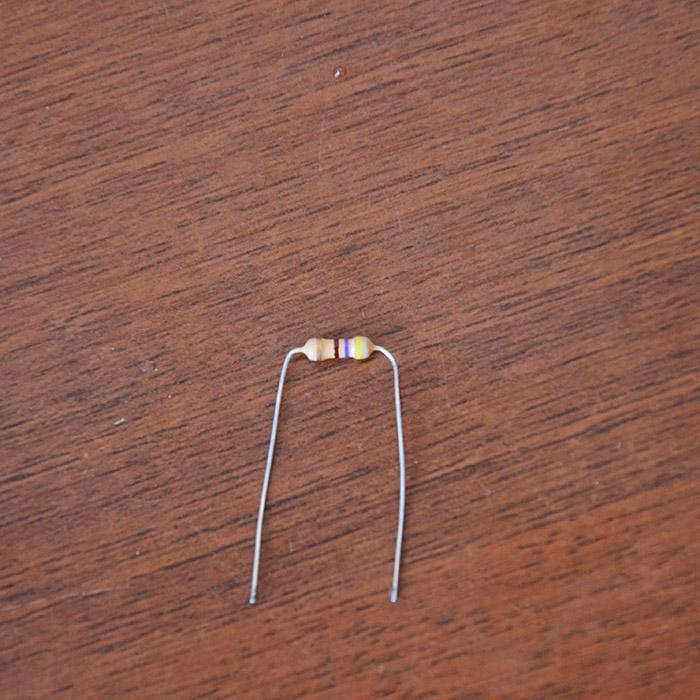resistor: (335, 324, 362, 397)
